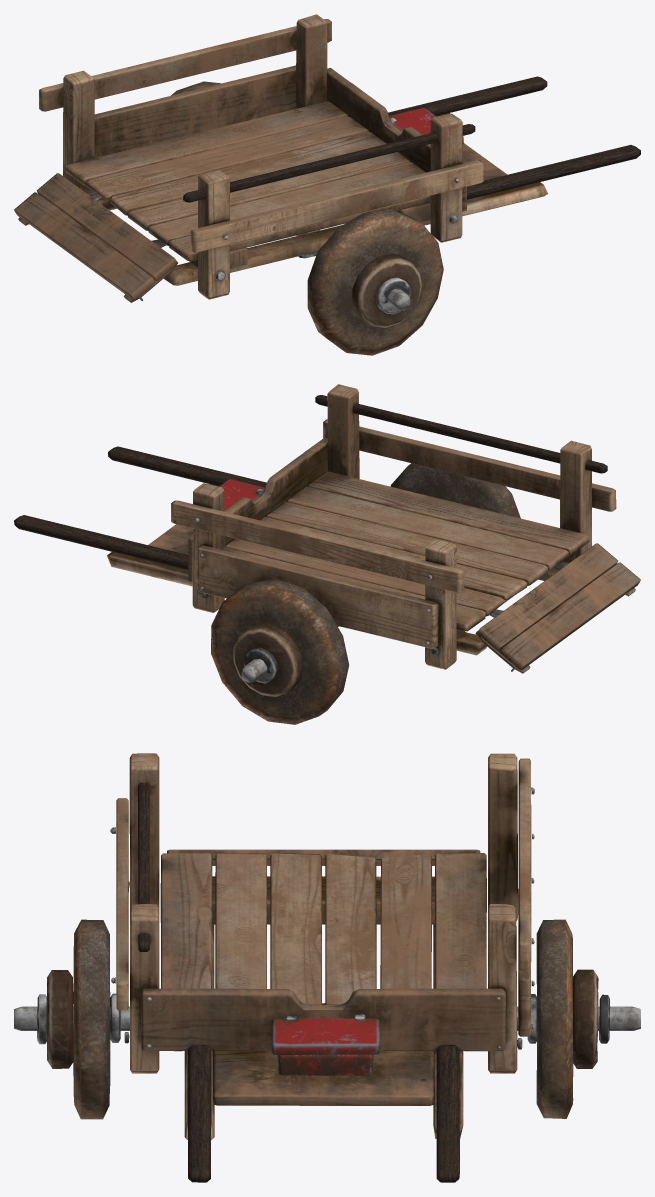
File: WoodCart_LP.glb
The picture shows the model from 3 angles, top to bottom: view 1: azimuth 30°, elevation 25°; view 2: azimuth 150°, elevation 25°; view 3: azimuth 270°, elevation 25°; orthographic projection. The views are drawn at different scales.
Parts seen in each view (by area): view 1: WoodCart_LP; view 2: WoodCart_LP; view 3: WoodCart_LP.
Boxes of the visible parts, x1,y1,x2,y2 form: WoodCart_LP: (14,14,640,355); WoodCart_LP: (14,384,640,724); WoodCart_LP: (14,753,640,1182).
Size of the model in its own units: 3.04 by 1.09 by 2.4.
Materials: 1 (1 with a texture image).
